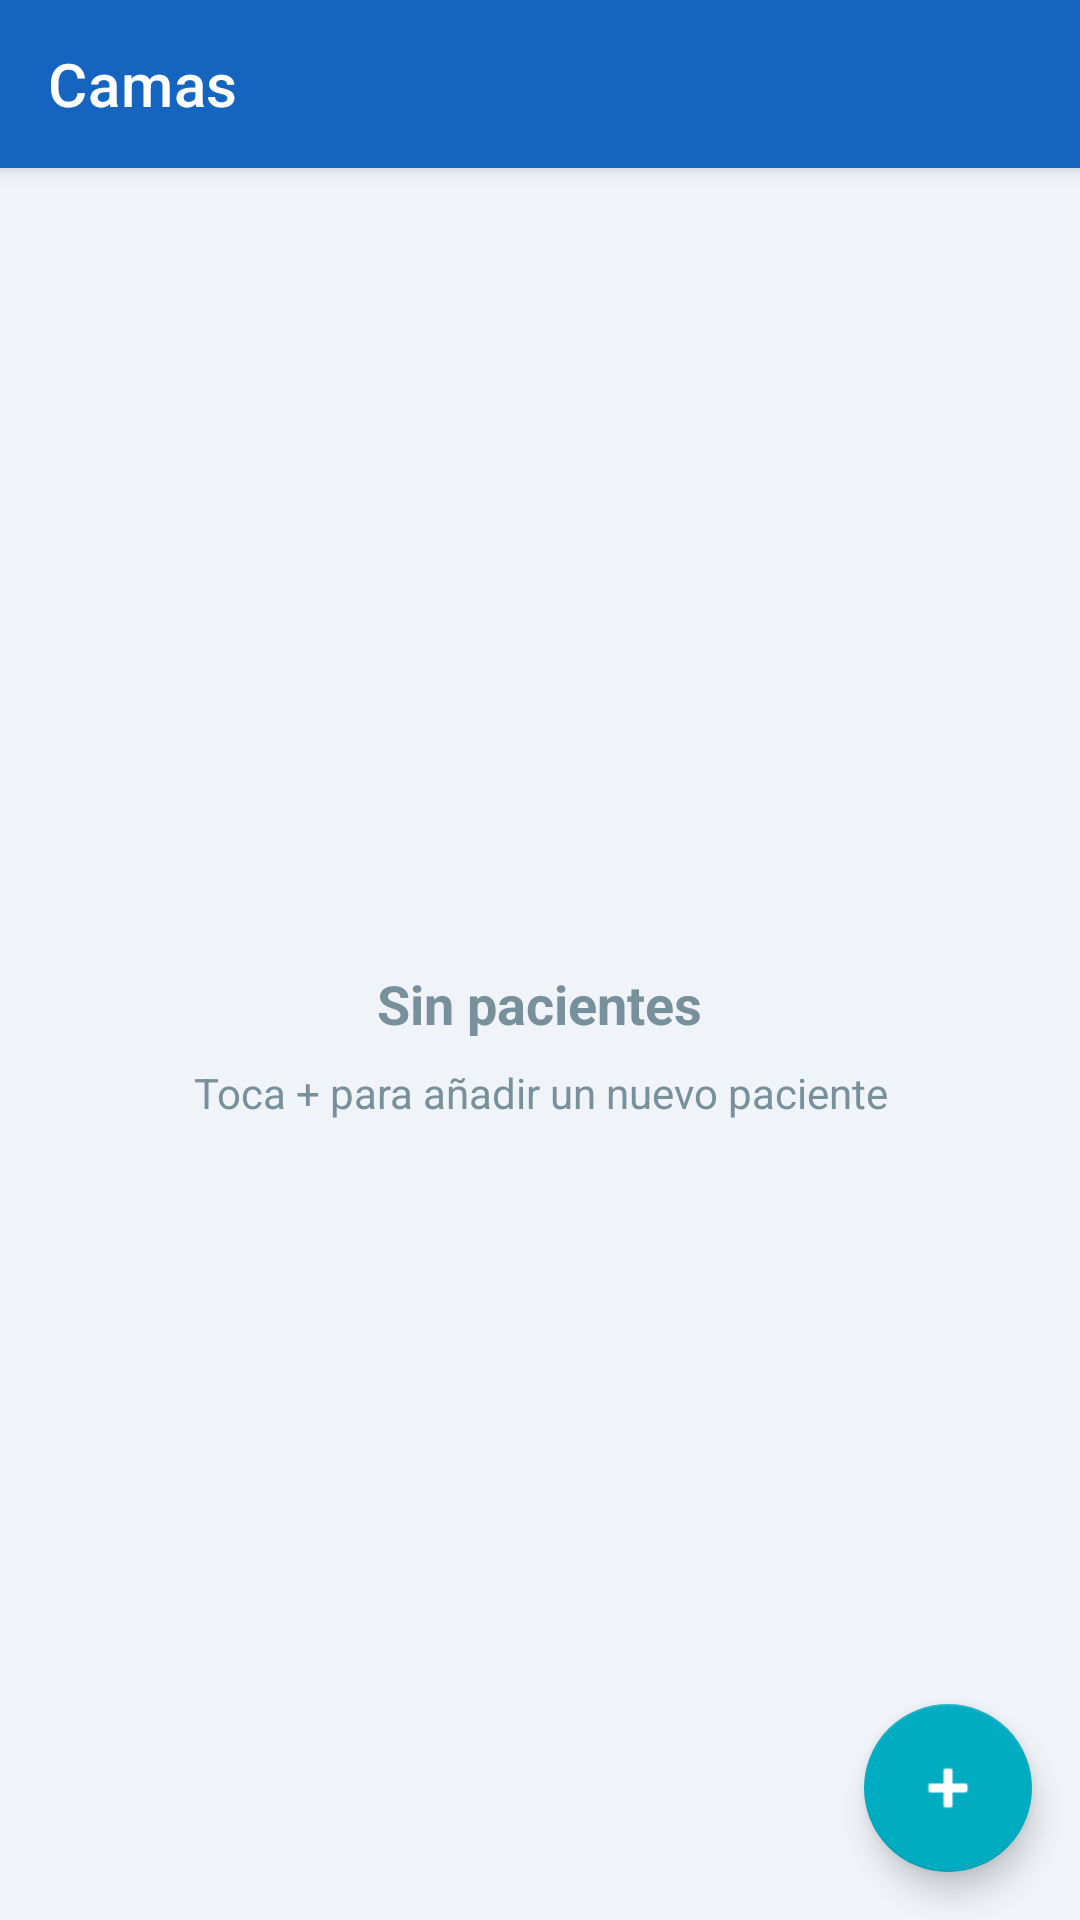

Icons on this 1080px x 1920px Android screen, each with the point to tap as (x=x, y=y):
Añadir paciente: (x=948, y=1788)
